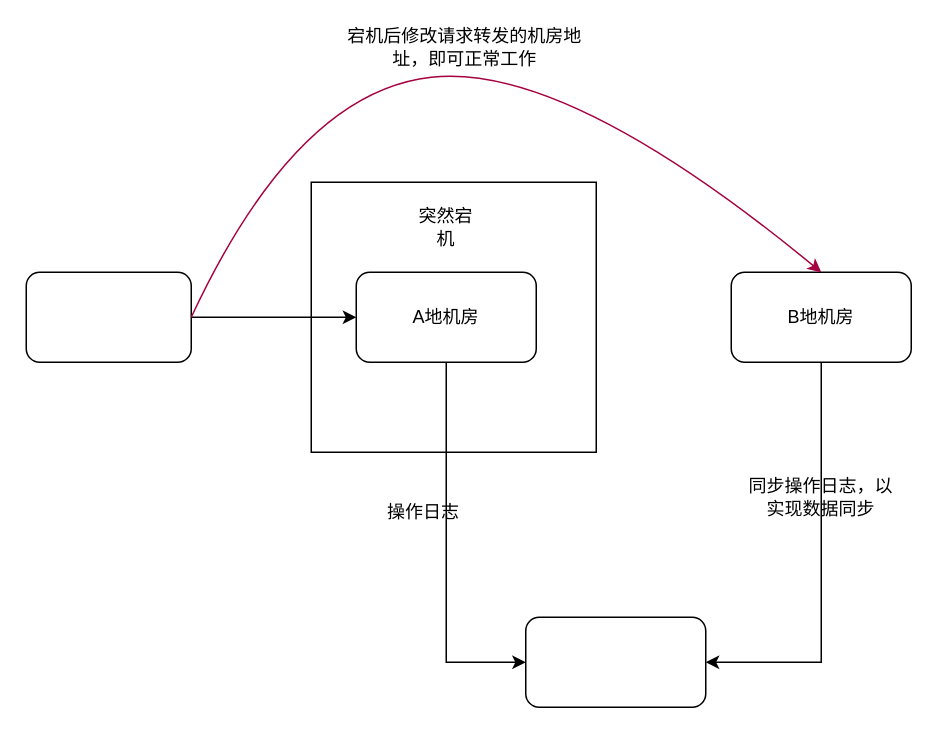
This 938x734 diagram has some shape labels left out. The shapes that lost their labels are listed below. From the top down, each one's centre as x and y in pixels, then its label:
At (x=108, y=316): "用户".
At (x=615, y=661): "kafka".
